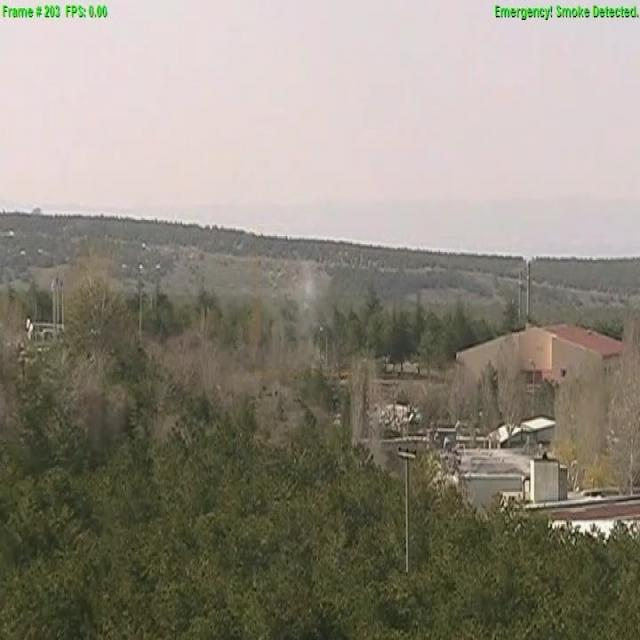smoke: (296, 273, 320, 321)
